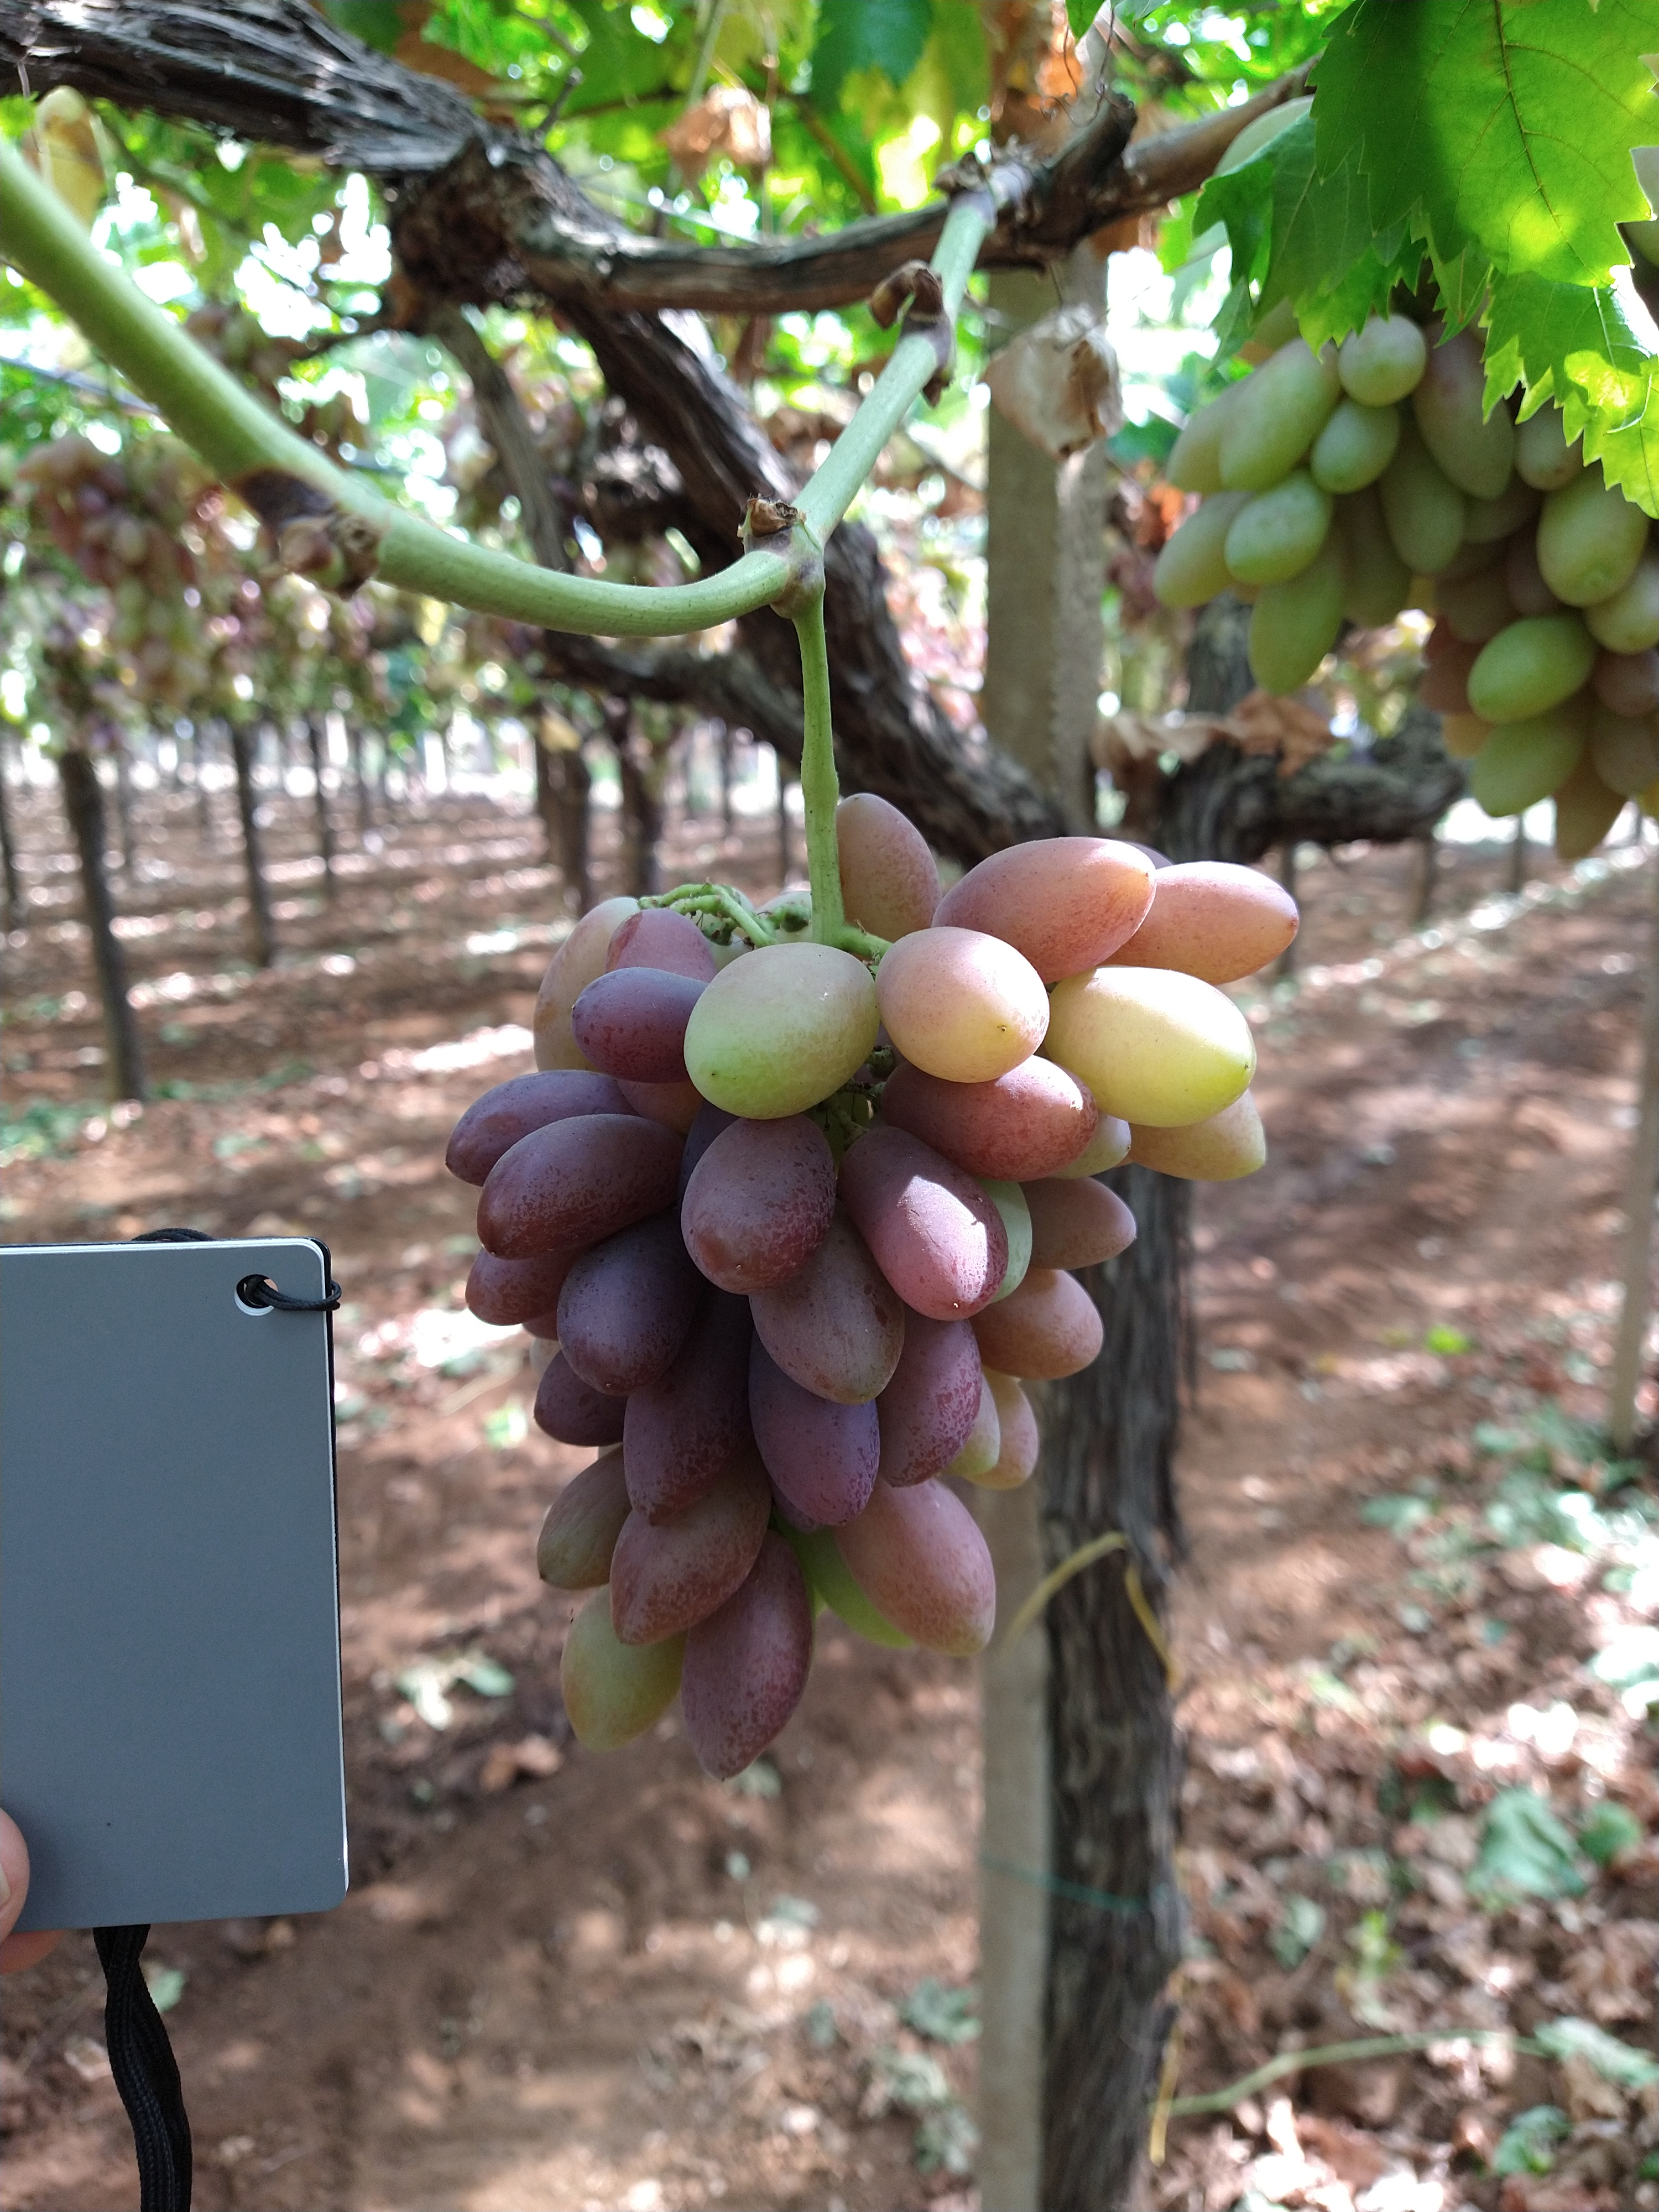acino: (676, 941, 877, 1125), (681, 1517, 816, 1784), (1049, 965, 1256, 1129), (838, 1122, 1007, 1320), (939, 833, 1157, 981), (608, 1458, 777, 1648), (474, 1113, 685, 1263), (836, 1475, 1000, 1658), (877, 923, 1049, 1087), (749, 1228, 910, 1404), (683, 1116, 838, 1298), (878, 1055, 1094, 1181), (558, 1216, 695, 1395), (622, 1334, 748, 1529), (746, 1346, 878, 1529), (558, 1581, 680, 1750), (446, 1071, 615, 1193), (1152, 855, 1300, 982), (882, 1312, 985, 1489), (570, 968, 706, 1087), (978, 1264, 1108, 1379), (838, 794, 938, 934), (1134, 1089, 1270, 1183), (533, 1465, 617, 1597), (1025, 1174, 1143, 1264), (532, 1353, 613, 1447), (462, 1256, 558, 1325)
